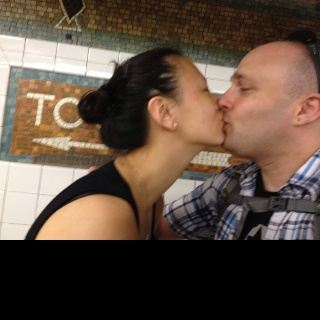without_mask: (216, 40, 320, 156), (178, 55, 225, 145)
